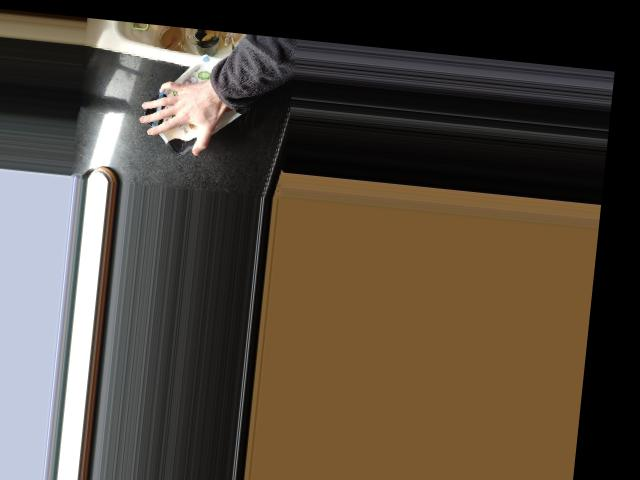cheese: (137, 45, 254, 163)
